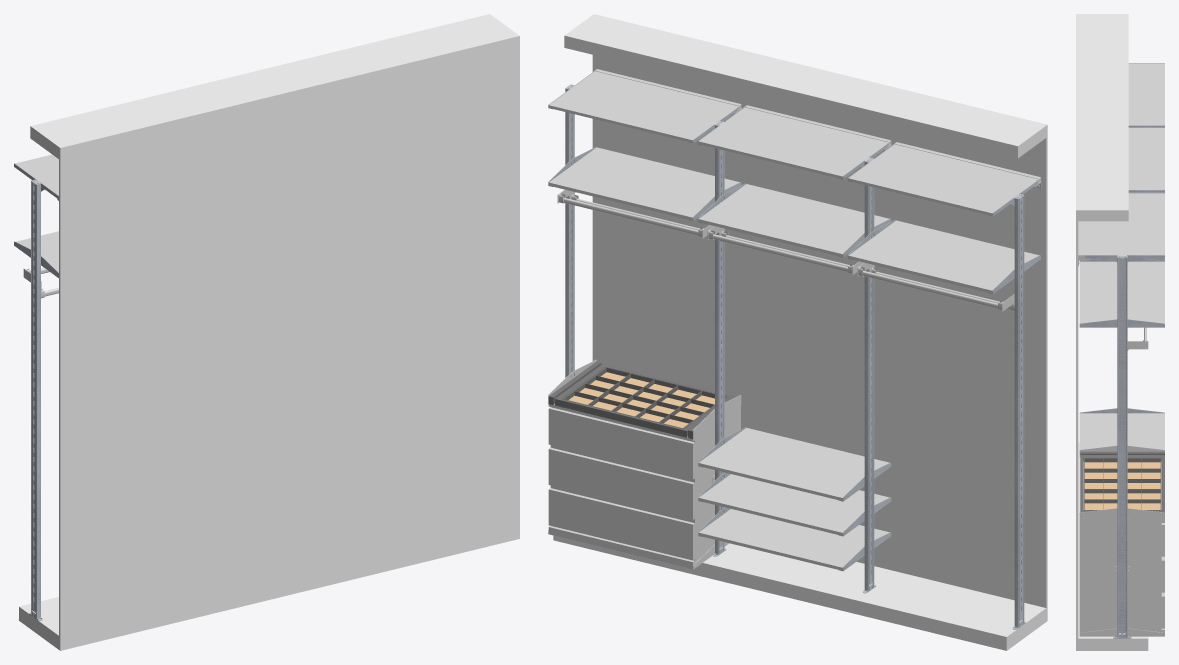
3 renders of one model, left to right at view 1: azimuth 30°, elevation 25°; view 2: azimuth 150°, elevation 25°; view 3: azimuth 270°, elevation 25°, orthographic. The views are drawn at different scales.
Parts seen in each view (by area): view 1: Geom3D_, Geom3D_组件#2, Geom3D_组件#16; view 2: Geom3D_, Geom3D_组件#15_木层板（中间） copy 001 (×6), Geom3D_组件#16 (×3), Geom3D_组件#4_柜子 copy 002, Geom3D_组件#2 (×4), Geom3D (×2), Geom3D_组件#11 (×3), Geom3D_组件#6_首饰盒 copy 002; view 3: Geom3D_, Geom3D_组件#4_柜子 copy 002, Geom3D_组件#16 (×3), Geom3D_组件#15_木层板（中间） copy 001 (×2), Geom3D (×5), Geom3D_组件#2, Geom3D_组件#6_首饰盒 copy 002, Geom3D_组件#11.
Boxes of the visible parts, x1,y1,x2,y2 form: Geom3D_: (19, 14, 519, 650); Geom3D_组件#2: (29, 179, 42, 620); Geom3D_组件#16: (15, 154, 58, 200); Geom3D_: (553, 14, 1047, 650); Geom3D_组件#15_木层板（中间） copy 001 (×6): (548, 147, 1039, 570); Geom3D_组件#16 (×3): (548, 69, 1041, 215); Geom3D_组件#4_柜子 copy 002: (548, 404, 740, 569); Geom3D_组件#2 (×4): (565, 84, 1025, 629); Geom3D (×2): (548, 361, 737, 438); Geom3D_组件#11 (×3): (557, 189, 1014, 311); Geom3D_组件#6_首饰盒 copy 002: (548, 359, 741, 439); Geom3D_: (1076, 14, 1148, 650); Geom3D_组件#4_柜子 copy 002: (1079, 458, 1164, 636); Geom3D_组件#16 (×3): (1078, 63, 1164, 266); Geom3D_组件#15_木层板（中间） copy 001 (×2): (1079, 261, 1164, 449); Geom3D (×5): (1079, 192, 1164, 512); Geom3D_组件#2: (1113, 256, 1131, 638); Geom3D_组件#6_首饰盒 copy 002: (1079, 445, 1164, 521); Geom3D_组件#11: (1127, 327, 1148, 350).
Bounding box in the file's own units: 2.73 × 2.85 × 0.5216.
Materials: 4 (1 with a texture image).
